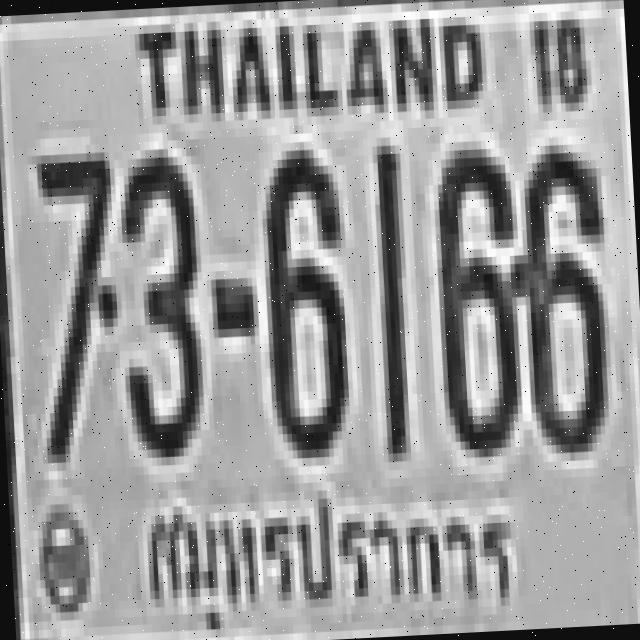1: (368, 137, 412, 454), (370, 146, 409, 454)
3: (111, 148, 204, 451)
6: (514, 136, 610, 447), (427, 140, 520, 451), (258, 140, 346, 452)
7: (31, 144, 120, 456), (34, 148, 121, 426)
SamutPrakan: (140, 467, 529, 640)
